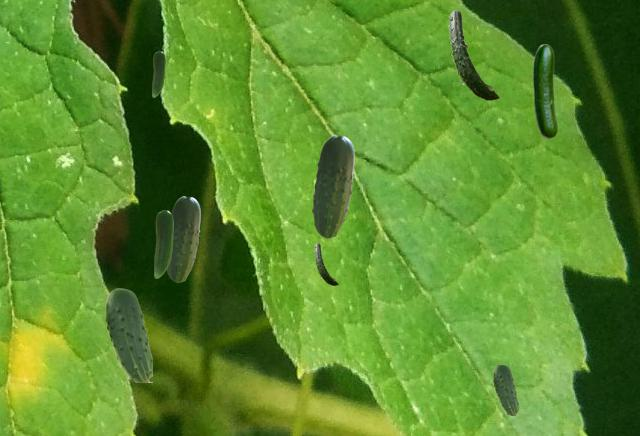cucumber: (448, 10, 498, 99), (105, 288, 151, 381), (312, 135, 353, 237), (166, 196, 199, 281), (533, 44, 556, 137), (154, 210, 172, 277), (493, 364, 517, 414), (314, 243, 337, 284), (152, 51, 164, 96)
